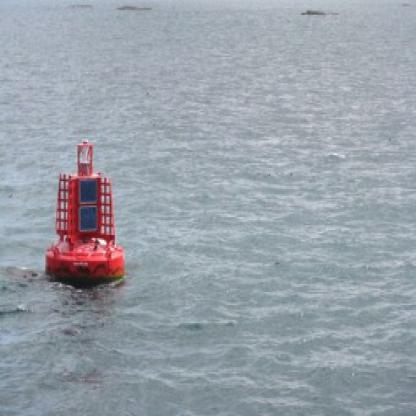buoy: (43, 132, 127, 292)
